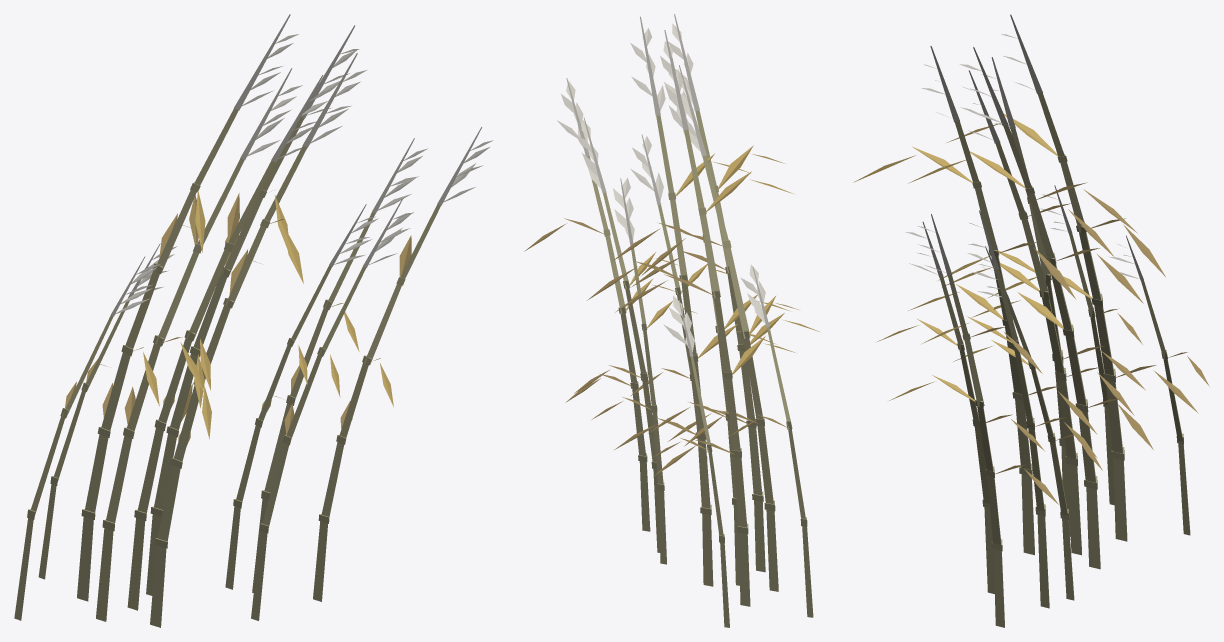
The model's file is shui.luweidang@fruiting__autumn.glb.
The picture shows the model from 3 angles, left to right: view 1: azimuth 30°, elevation 25°; view 2: azimuth 150°, elevation 25°; view 3: azimuth 270°, elevation 25°; orthographic projection. The views are drawn at different scales.
Visible parts, largest first — view 1: shui.luweidang@fruiting__autumn; view 2: shui.luweidang@fruiting__autumn; view 3: shui.luweidang@fruiting__autumn.
Boxes of the visible parts, x1,y1,x2,y2 form: shui.luweidang@fruiting__autumn: (14, 14, 493, 627); shui.luweidang@fruiting__autumn: (524, 14, 819, 627); shui.luweidang@fruiting__autumn: (854, 14, 1209, 627).
Size of the model in its own units: 3 by 4.39 by 2.38.
